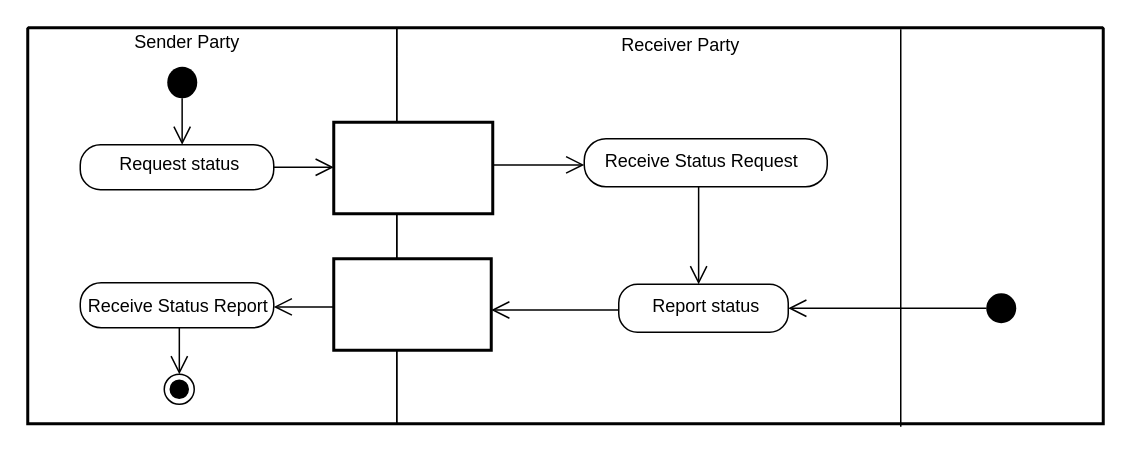
This 1130x453 diagram has some shape labels left out. The box of each missing label's shape, as (x1, y1, x2, y2) in pixels:
Transportation Status: (332, 256, 492, 351)
Transportation Status Request: (332, 120, 494, 214)
Trigger reporting procedure: (980, 286, 1022, 328)
